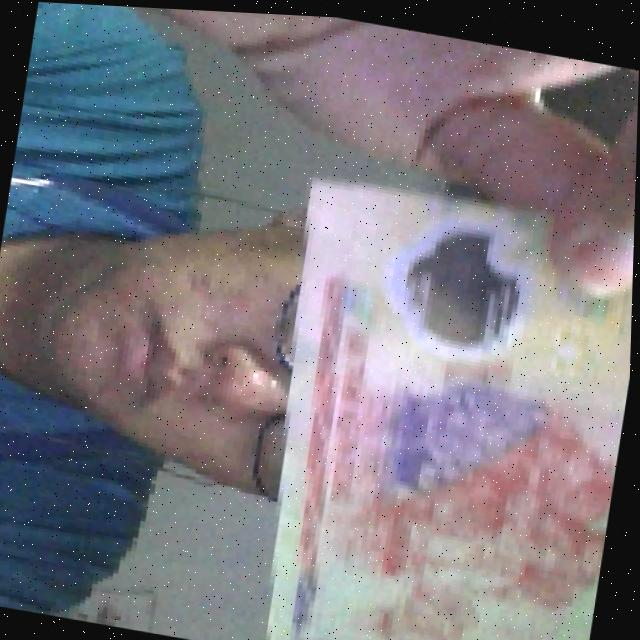200 000 VND: (242, 152, 637, 640)
